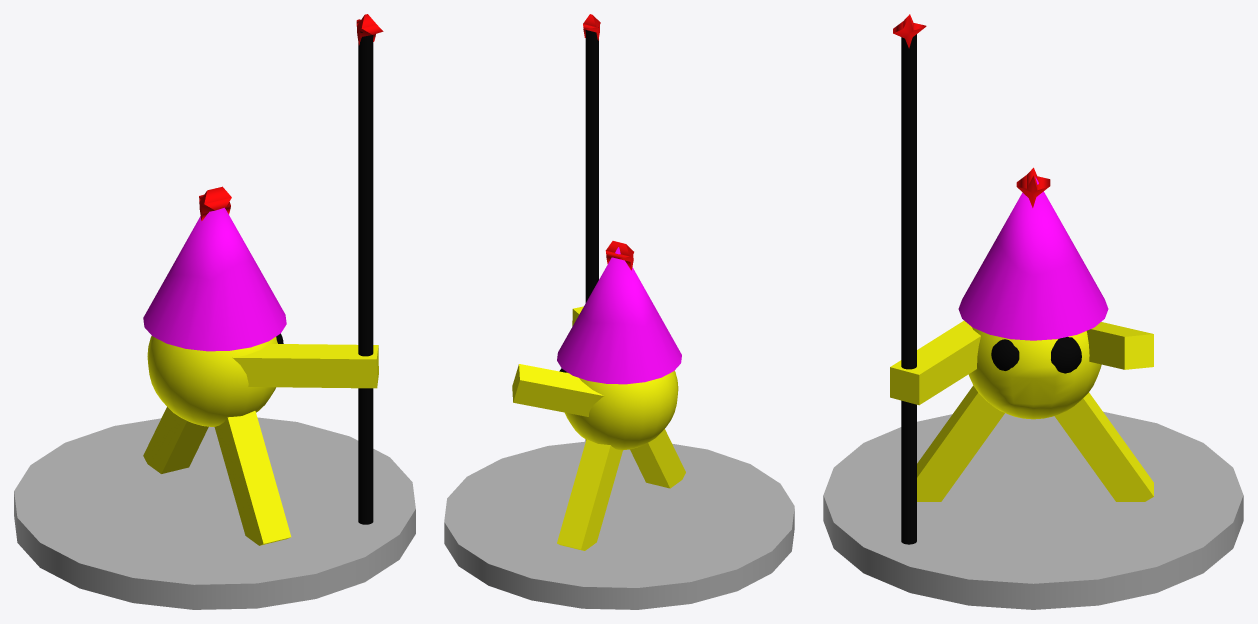
The model's file is FBX_Final_FBX_FinalV2_Final_Haha_ha_V3_V8_V_Gagagogoo_Fbx.fbx.
3 renders of one model, left to right at view 1: azimuth 30°, elevation 25°; view 2: azimuth 150°, elevation 25°; view 3: azimuth 270°, elevation 25°, orthographic. The views are drawn at different scales.
Parts seen in each view (by area): view 1: base, Chapeau, tete, baton, Jambe_d, bras_d, Jambe_g, etoile; view 2: base, Chapeau, tete, Jambe_g, baton, bras_g, Jambe_d, etoile; view 3: base, Chapeau, baton, tete, Jambe_g, Jambe_d, bras_d, bras_g, oeil_g, oeil_d, etoile.
Part boxes in pixels (left/top/right/bottom): base: left=14, top=417, right=415, bottom=609; Chapeau: left=143, top=207, right=286, bottom=351; tete: left=147, top=336, right=277, bottom=426; baton: left=358, top=31, right=373, bottom=524; Jambe_d: left=214, top=411, right=291, bottom=545; bras_d: left=232, top=344, right=378, bottom=388; Jambe_g: left=143, top=407, right=208, bottom=473; etoile: left=199, top=186, right=231, bottom=220; base: left=444, top=441, right=794, bottom=609; Chapeau: left=557, top=247, right=681, bottom=384; tete: left=565, top=370, right=678, bottom=450; Jambe_g: left=557, top=439, right=622, bottom=550; baton: left=585, top=27, right=598, bottom=441; bras_g: left=512, top=364, right=603, bottom=416; Jambe_d: left=630, top=429, right=685, bottom=488; etoile: left=605, top=241, right=633, bottom=270; base: left=823, top=411, right=1243, bottom=609; Chapeau: left=958, top=177, right=1108, bottom=340; baton: left=901, top=34, right=916, bottom=544; tete: left=968, top=327, right=1101, bottom=419; Jambe_g: left=1054, top=392, right=1153, bottom=501; Jambe_d: left=917, top=385, right=1004, bottom=501; bras_d: left=890, top=320, right=980, bottom=405; bras_g: left=1086, top=322, right=1153, bottom=369; oeil_g: left=1051, top=337, right=1081, bottom=373; oeil_d: left=991, top=339, right=1019, bottom=370; etoile: left=1016, top=167, right=1050, bottom=207.
Size of the model in its own units: 12.59 by 18.28 by 12.59.
